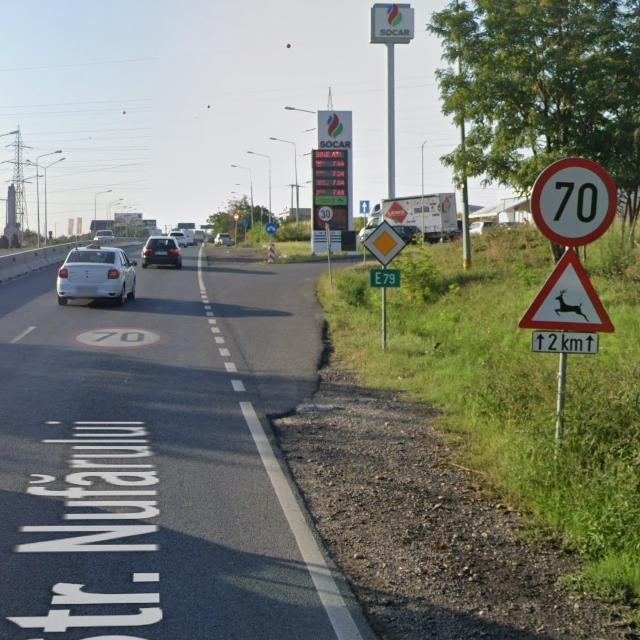forb_speed_over_30: (316, 205, 335, 224)
forb_speed_over_70: (531, 156, 620, 249), (69, 326, 170, 352)
